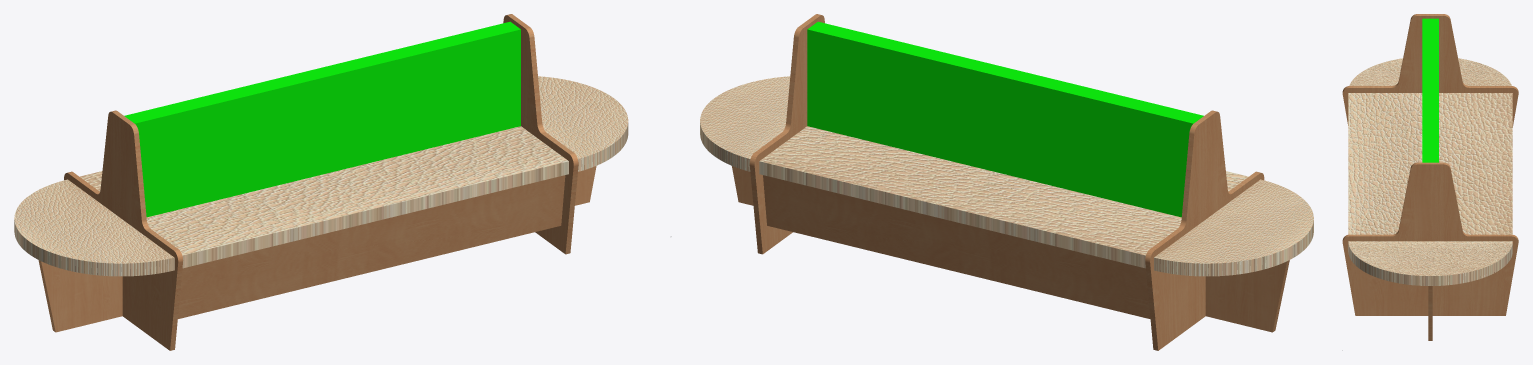
The model's file is divan_cheburashka_3_s_dvumja_bok_sid_polumjagkij.glb.
The picture shows the model from 3 angles, left to right: view 1: azimuth 30°, elevation 25°; view 2: azimuth 150°, elevation 25°; view 3: azimuth 270°, elevation 25°; orthographic projection. The views are drawn at different scales.
Visible parts, largest first — view 1: Shape_IndexedFaceSet.004_NON, Shape_IndexedFaceSet.007_NON, Shape_IndexedFaceSet.006, Shape_IndexedFaceSet_NON, Shape_IndexedFaceSet.008, Shape_IndexedFaceSet.002_NON, Shape_IndexedFaceSet.001, Shape_IndexedFaceSet.009, Shape_IndexedFaceSet.003; view 2: Shape_IndexedFaceSet.004_NON, Shape_IndexedFaceSet.007_NON, Shape_IndexedFaceSet.005, Shape_IndexedFaceSet_NON, Shape_IndexedFaceSet.008, Shape_IndexedFaceSet.002_NON, Shape_IndexedFaceSet.001, Shape_IndexedFaceSet.009, Shape_IndexedFaceSet.003; view 3: Shape_IndexedFaceSet.007_NON, Shape_IndexedFaceSet.009, Shape_IndexedFaceSet.002_NON, Shape_IndexedFaceSet.008, Shape_IndexedFaceSet.004_NON, Shape_IndexedFaceSet_NON, Shape_IndexedFaceSet.003.
Part boxes in pixels (x1,y1,x2,y2): Shape_IndexedFaceSet.004_NON: (124, 21, 520, 217); Shape_IndexedFaceSet.007_NON: (80, 126, 568, 268); Shape_IndexedFaceSet.006: (178, 175, 565, 318); Shape_IndexedFaceSet_NON: (14, 179, 174, 276); Shape_IndexedFaceSet.008: (64, 110, 183, 350); Shape_IndexedFaceSet.002_NON: (538, 76, 628, 171); Shape_IndexedFaceSet.001: (38, 260, 122, 332); Shape_IndexedFaceSet.009: (503, 14, 578, 254); Shape_IndexedFaceSet.003: (575, 166, 596, 205); Shape_IndexedFaceSet.004_NON: (807, 21, 1203, 217); Shape_IndexedFaceSet.007_NON: (759, 126, 1248, 268); Shape_IndexedFaceSet.005: (763, 175, 1150, 319); Shape_IndexedFaceSet_NON: (1154, 179, 1313, 276); Shape_IndexedFaceSet.008: (1145, 110, 1264, 350); Shape_IndexedFaceSet.002_NON: (700, 76, 790, 171); Shape_IndexedFaceSet.001: (1205, 260, 1289, 332); Shape_IndexedFaceSet.009: (749, 14, 824, 254); Shape_IndexedFaceSet.003: (732, 166, 753, 205); Shape_IndexedFaceSet.007_NON: (1348, 93, 1512, 234); Shape_IndexedFaceSet.009: (1342, 162, 1518, 315); Shape_IndexedFaceSet.002_NON: (1348, 241, 1512, 285); Shape_IndexedFaceSet.008: (1342, 14, 1518, 127); Shape_IndexedFaceSet.004_NON: (1422, 18, 1438, 162); Shape_IndexedFaceSet_NON: (1349, 58, 1511, 85); Shape_IndexedFaceSet.003: (1428, 286, 1432, 340).
Bounding box in the file's own units: 1901 × 611 × 643.
11 materials, 9 textured.
